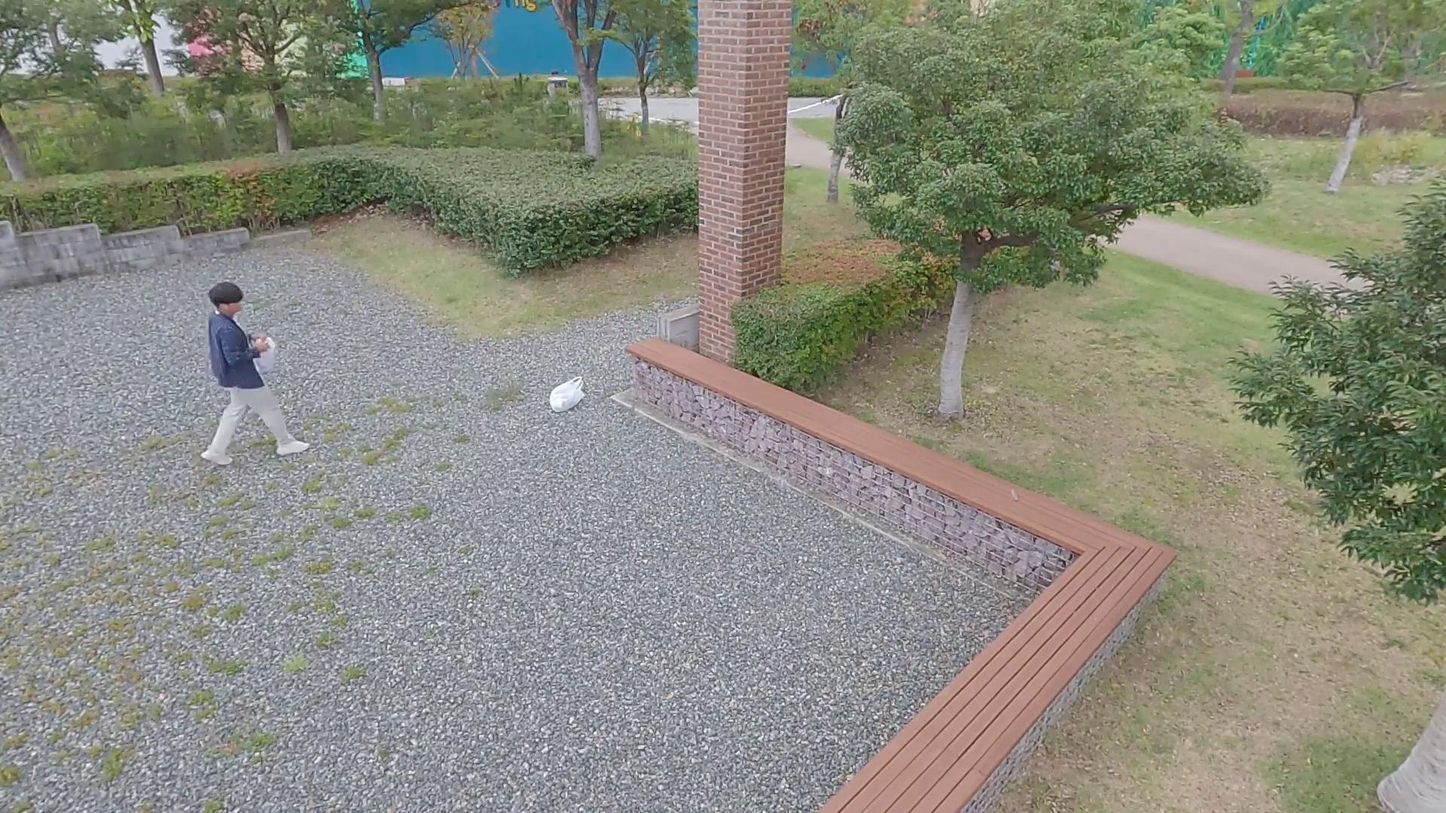person: (201, 280, 310, 466)
trash: (548, 375, 586, 416), (249, 339, 281, 379)
